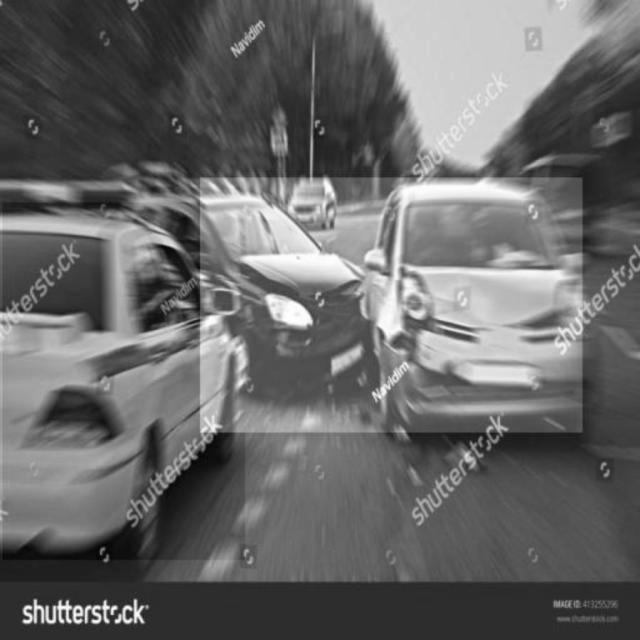accident: (200, 179, 582, 433)
vehicle: (2, 203, 244, 560), (290, 175, 337, 227)
